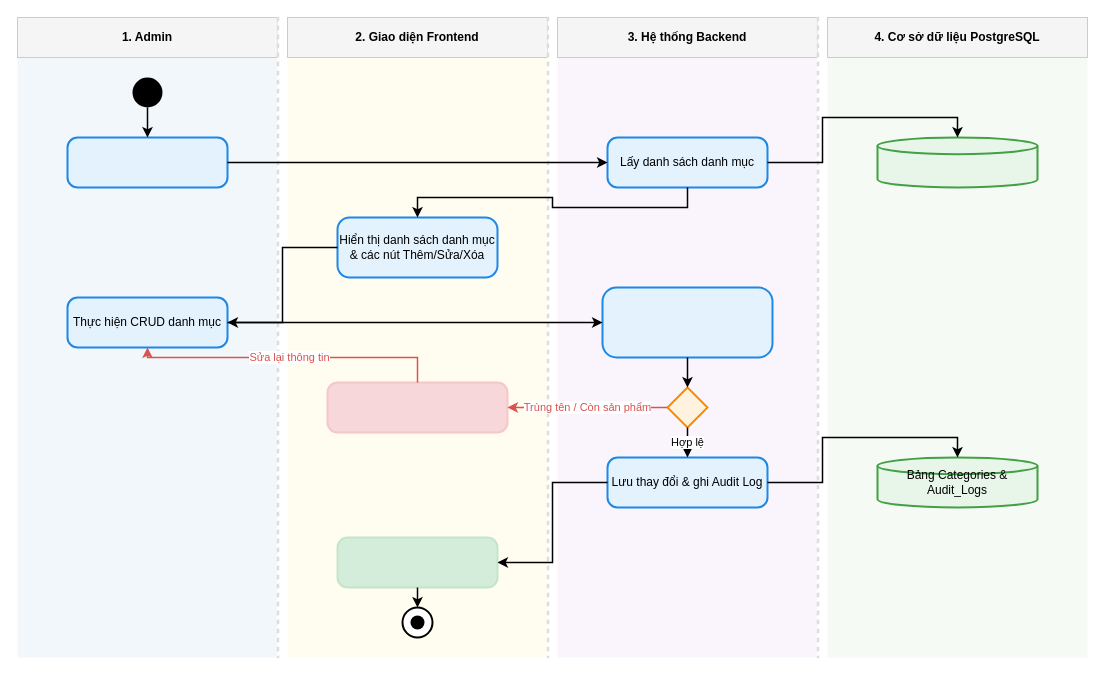
Image size: 1105x676. Some labels were removed from this diagram. Each missing label, with the centre of its shape:
"Báo lỗi trùng tên hoặc còn sản phẩm" goes at [417,407].
"Bảng Categories" goes at [957,162].
"Kiểm tra ràng buộc: - Tên danh mục trùng lặp - Check sản phẩm liên kết khi xóa" goes at [687,322].
"Mở trang Quản lý Danh mục" goes at [147,162].
"Thông báo thành công" goes at [417,562].
